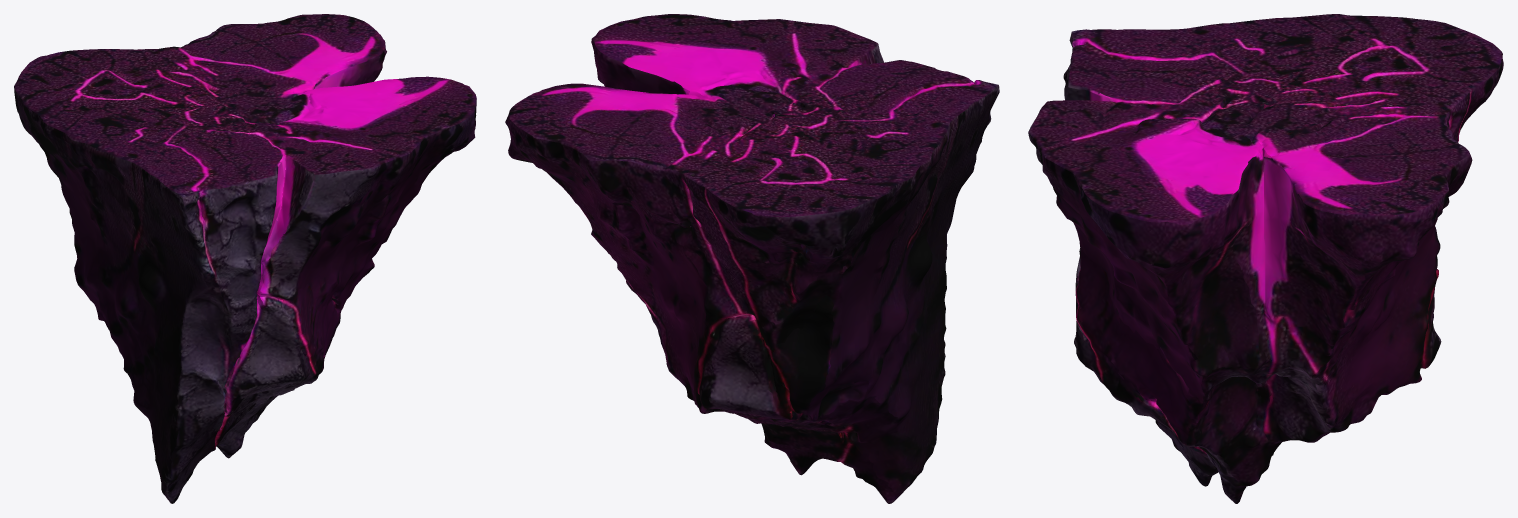
File: shelf-break-6-generated-2026-05-17T20-50-14-459Z.medium.glb
The picture shows the model from 3 angles, left to right: view 1: azimuth 30°, elevation 25°; view 2: azimuth 150°, elevation 25°; view 3: azimuth 270°, elevation 25°; orthographic projection. The views are drawn at different scales.
Visible parts, largest first — view 1: temp_mesh.ply; view 2: temp_mesh.ply; view 3: temp_mesh.ply.
Part boxes in pixels (x1,y1,x2,y2): temp_mesh.ply: (14, 14, 476, 503); temp_mesh.ply: (505, 14, 999, 503); temp_mesh.ply: (1028, 14, 1503, 503).
Size of the model in its own units: 1.96 by 1.88 by 1.88.
Materials: 1 (1 with a texture image).
